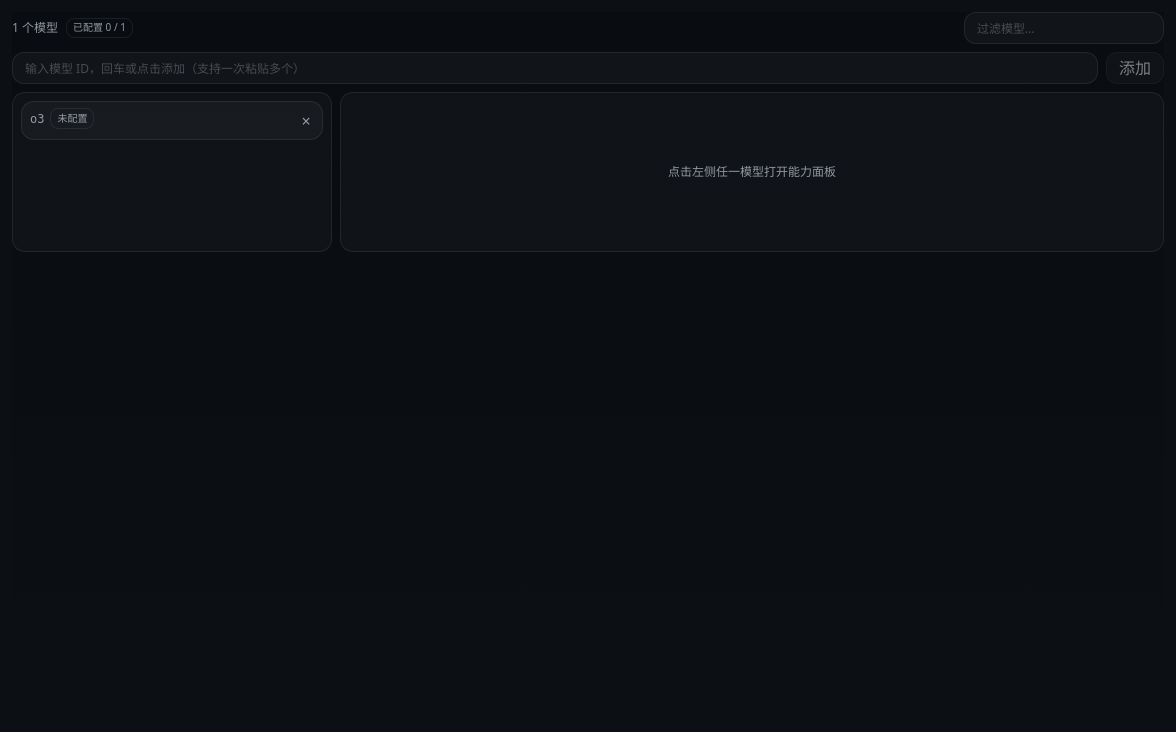
ProviderModelEditor › toggles a modality chip on the detail panel
The width and height of the screenshot is (1176, 732).
Step 1. Click the button "o3 未配置" → (72, 118), box [22,102,290,139]
(page scrolled)
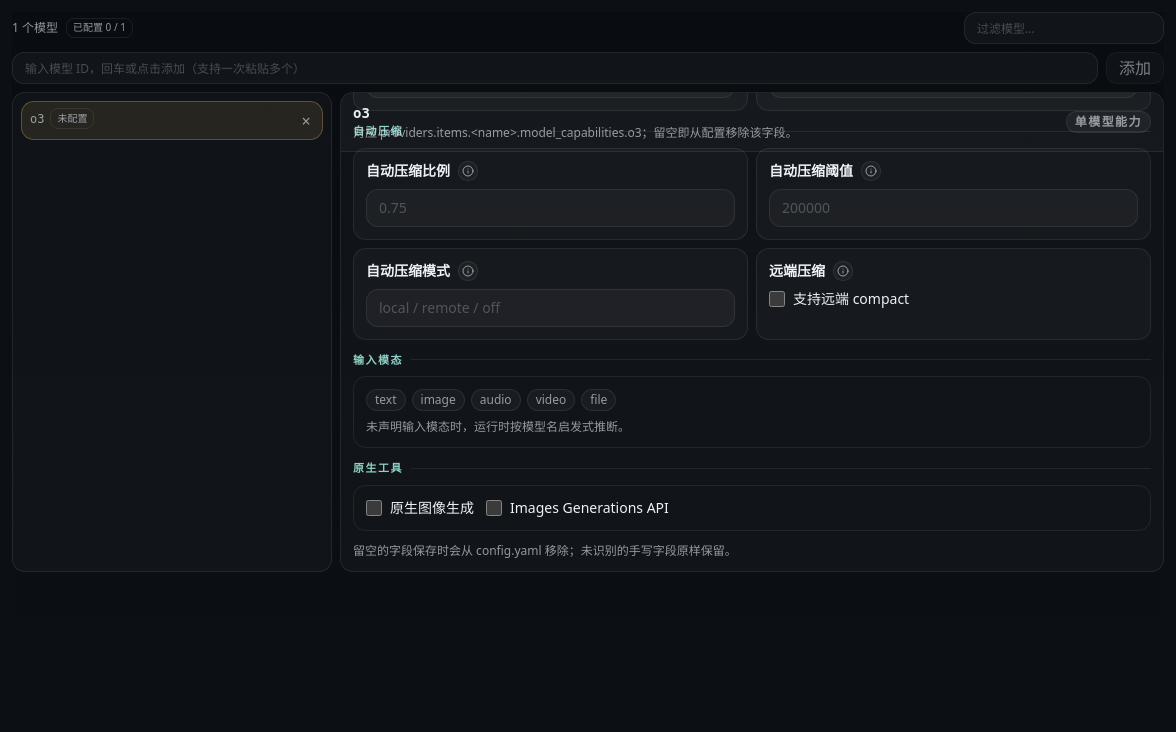
Now the button "image" is shown
Step 2. Click the button "image" → (438, 400), box [412,389,465,411]
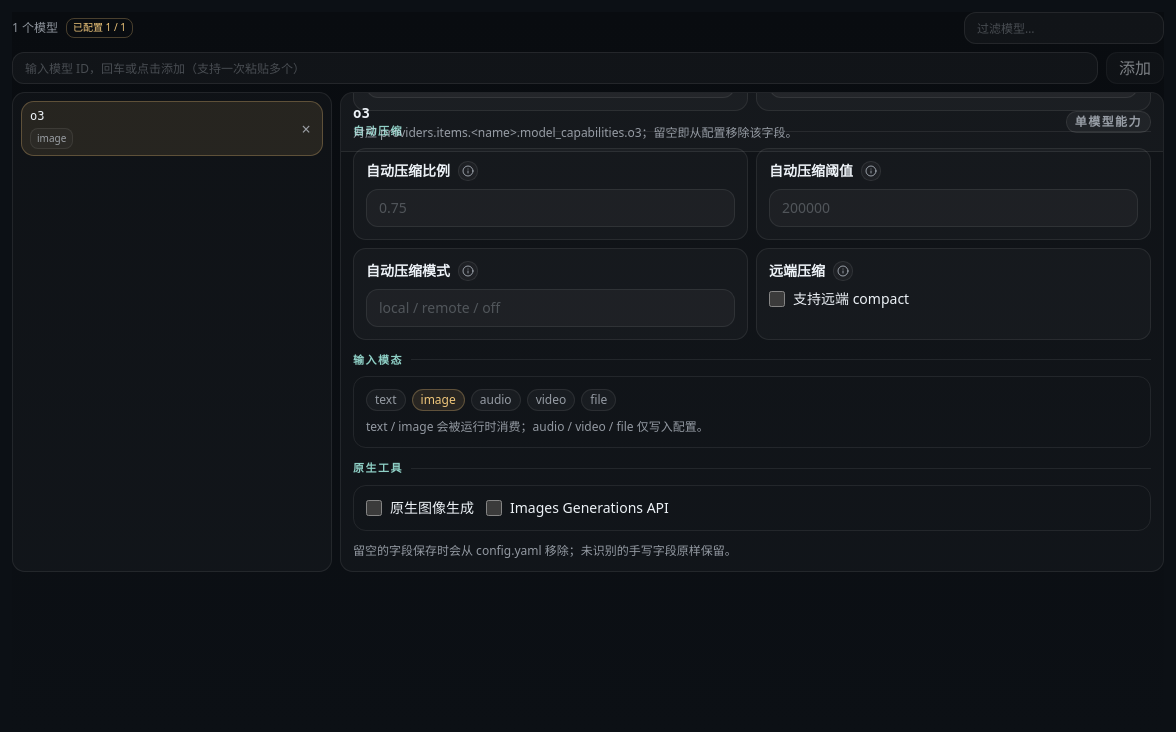
Now the button "o3 image" is shown, box [22,102,290,155]
